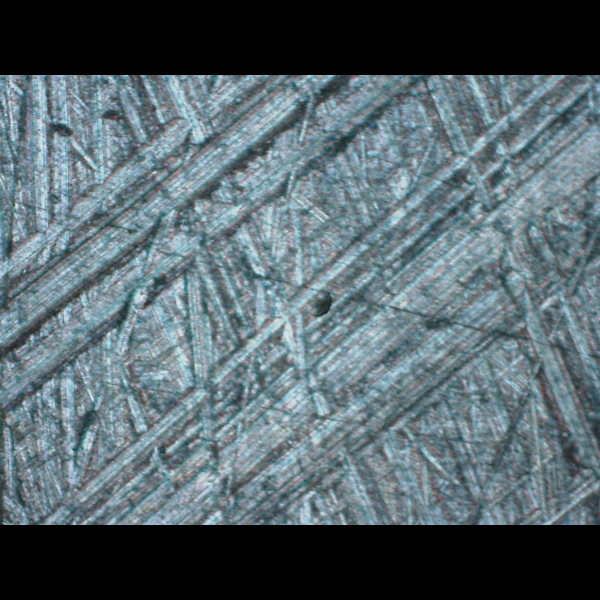d: (0, 79, 587, 524)
